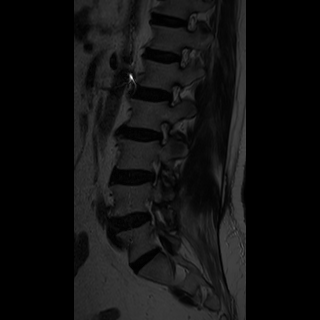LFS0: (153, 77, 189, 113), (150, 115, 181, 154)
